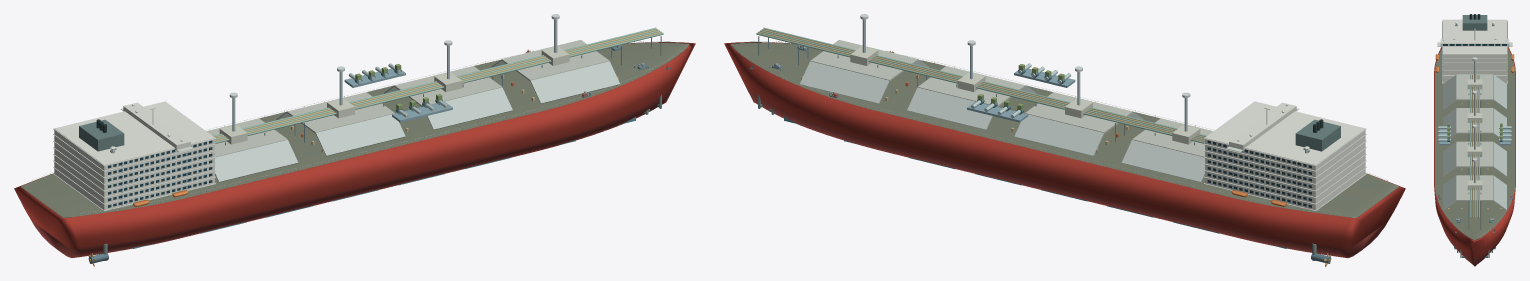
Rendered from christophe-de-margerie.lod1.glb.
The picture shows the model from 3 angles, left to right: view 1: azimuth 30°, elevation 25°; view 2: azimuth 150°, elevation 25°; view 3: azimuth 270°, elevation 25°; orthographic projection. The views are drawn at different scales.
Parts seen in each view (by area): view 1: christophe-de-margerie.structure.hull.outer-hull-shell.1, christophe-de-margerie.structure.decks.main-strength-deck.1, christophe-de-margerie.structure.hull.antifouling-underwater, christophe-de-margerie.accommodation.superstructure.deck-7-e, christophe-de-margerie.cargo.cargo-tank-4.tank-4-sloping-ins, christophe-de-margerie.cargo.cargo-tank-2.tank-2-sloping-ins, christophe-de-margerie.cargo.cargo-tank-1.tank-1-sloping-ins, christophe-de-margerie.cargo.cargo-tank-3.tank-3-sloping-ins, christophe-de-margerie.cargo.cargo-tank-4.insulated-tank-dom, christophe-de-margerie.cargo.cargo-tank-2.insulated-tank-dom, christophe-de-margerie.cargo.cargo-tank-3.insulated-tank-dom, christophe-de-margerie.cargo.cargo-tank-1.insulated-tank-dom (+14 smaller); view 2: christophe-de-margerie.structure.hull.outer-hull-shell.1, christophe-de-margerie.structure.decks.main-strength-deck.1, christophe-de-margerie.structure.hull.antifouling-underwater, christophe-de-margerie.accommodation.superstructure.deck-7-e, christophe-de-margerie.cargo.cargo-tank-4.tank-4-sloping-ins, christophe-de-margerie.cargo.cargo-tank-2.tank-2-sloping-ins, christophe-de-margerie.cargo.cargo-tank-1.tank-1-sloping-ins, christophe-de-margerie.cargo.cargo-tank-3.tank-3-sloping-ins, christophe-de-margerie.cargo.cargo-tank-4.insulated-tank-dom, christophe-de-margerie.cargo.cargo-tank-2.insulated-tank-dom, christophe-de-margerie.cargo.cargo-tank-3.insulated-tank-dom, christophe-de-margerie.cargo.cargo-tank-1.insulated-tank-dom (+14 smaller); view 3: christophe-de-margerie.structure.decks.main-strength-deck.1, christophe-de-margerie.accommodation.superstructure.deck-7-e, christophe-de-margerie.structure.hull.outer-hull-shell.1, christophe-de-margerie.cargo.cargo-tank-1.insulated-tank-dom, christophe-de-margerie.cargo.cargo-tank-3.insulated-tank-dom, christophe-de-margerie.cargo.cargo-tank-4.insulated-tank-dom, christophe-de-margerie.cargo.cargo-tank-2.insulated-tank-dom, christophe-de-margerie.cargo.cargo-tank-1.tank-1-sloping-ins (×2), christophe-de-margerie.cargo.cargo-tank-3.tank-3-sloping-ins (×2), christophe-de-margerie.cargo.cargo-tank-4.tank-4-sloping-ins (×2), christophe-de-margerie.cargo.cargo-tank-2.tank-2-sloping-ins (×2), christophe-de-margerie.navigation.bridge.wheelhouse.1 (+23 smaller).
Boxes of the visible parts, box(x1,y1,x2,y2) form: christophe-de-margerie.structure.hull.outer-hull-shell.1: box(14, 42, 695, 249); christophe-de-margerie.structure.decks.main-strength-deck.1: box(21, 42, 689, 218); christophe-de-margerie.structure.hull.antifouling-underwater: box(32, 83, 675, 257); christophe-de-margerie.accommodation.superstructure.deck-7-e: box(54, 101, 214, 170); christophe-de-margerie.cargo.cargo-tank-4.tank-4-sloping-ins: box(530, 61, 619, 103); christophe-de-margerie.cargo.cargo-tank-2.tank-2-sloping-ins: box(315, 114, 405, 156); christophe-de-margerie.cargo.cargo-tank-1.tank-1-sloping-ins: box(215, 140, 298, 182); christophe-de-margerie.cargo.cargo-tank-3.tank-3-sloping-ins: box(427, 87, 512, 129); christophe-de-margerie.cargo.cargo-tank-4.insulated-tank-dom: box(501, 40, 609, 80); christophe-de-margerie.cargo.cargo-tank-2.insulated-tank-dom: box(287, 92, 394, 133); christophe-de-margerie.cargo.cargo-tank-3.insulated-tank-dom: box(394, 66, 501, 106); christophe-de-margerie.cargo.cargo-tank-1.insulated-tank-dom: box(206, 118, 287, 157); christophe-de-margerie.structure.hull.outer-hull-shell.1: box(724, 42, 1405, 249); christophe-de-margerie.structure.decks.main-strength-deck.1: box(730, 42, 1398, 218); christophe-de-margerie.structure.hull.antifouling-underwater: box(744, 83, 1387, 257); christophe-de-margerie.accommodation.superstructure.deck-7-e: box(1205, 101, 1365, 170); christophe-de-margerie.cargo.cargo-tank-4.tank-4-sloping-ins: box(800, 61, 889, 103); christophe-de-margerie.cargo.cargo-tank-2.tank-2-sloping-ins: box(1014, 114, 1104, 156); christophe-de-margerie.cargo.cargo-tank-1.tank-1-sloping-ins: box(1121, 140, 1204, 182); christophe-de-margerie.cargo.cargo-tank-3.tank-3-sloping-ins: box(907, 87, 992, 129); christophe-de-margerie.cargo.cargo-tank-4.insulated-tank-dom: box(810, 40, 918, 80); christophe-de-margerie.cargo.cargo-tank-2.insulated-tank-dom: box(1025, 92, 1132, 133); christophe-de-margerie.cargo.cargo-tank-3.insulated-tank-dom: box(918, 66, 1025, 106); christophe-de-margerie.cargo.cargo-tank-1.insulated-tank-dom: box(1132, 118, 1213, 157); christophe-de-margerie.structure.decks.main-strength-deck.1: box(1435, 49, 1514, 240); christophe-de-margerie.accommodation.superstructure.deck-7-e: box(1443, 19, 1506, 57); christophe-de-margerie.structure.hull.outer-hull-shell.1: box(1434, 47, 1515, 258); christophe-de-margerie.cargo.cargo-tank-1.insulated-tank-dom: box(1456, 74, 1493, 100); christophe-de-margerie.cargo.cargo-tank-3.insulated-tank-dom: box(1456, 141, 1493, 167); christophe-de-margerie.cargo.cargo-tank-4.insulated-tank-dom: box(1456, 175, 1493, 200); christophe-de-margerie.cargo.cargo-tank-2.insulated-tank-dom: box(1456, 108, 1493, 133); christophe-de-margerie.cargo.cargo-tank-1.tank-1-sloping-ins (×2): box(1443, 74, 1506, 109); christophe-de-margerie.cargo.cargo-tank-3.tank-3-sloping-ins (×2): box(1443, 142, 1506, 176); christophe-de-margerie.cargo.cargo-tank-4.tank-4-sloping-ins (×2): box(1443, 175, 1506, 209); christophe-de-margerie.cargo.cargo-tank-2.tank-2-sloping-ins (×2): box(1443, 108, 1506, 137); christophe-de-margerie.navigation.bridge.wheelhouse.1: box(1440, 39, 1509, 47).
Bounding box in the file's own units: 299 × 51.66 × 50.
